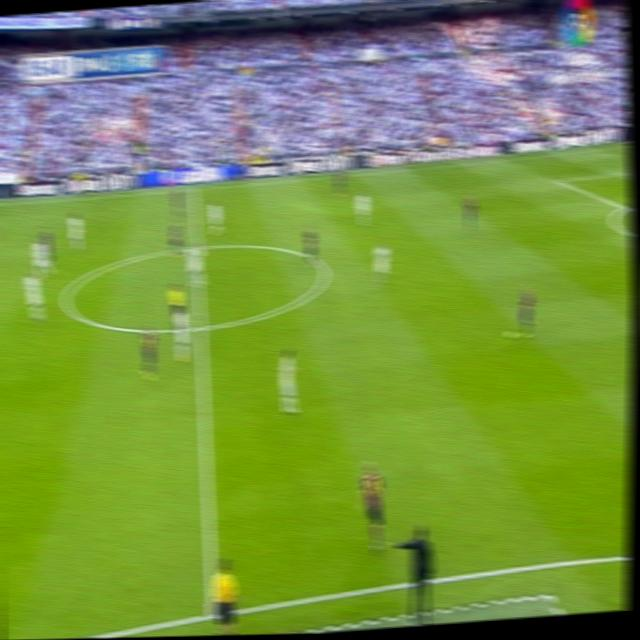bigarea_bottom_inner: (204, 603, 220, 626)
halfcircle_bottom: (192, 314, 210, 341)
halfcircle_top: (191, 237, 204, 256)
midline_bottom_intersection: (204, 603, 220, 626)
midline_top_intersection: (188, 182, 200, 195)
